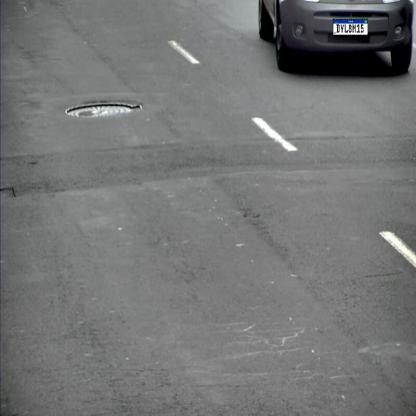PlacaM: (333, 19, 368, 35)
